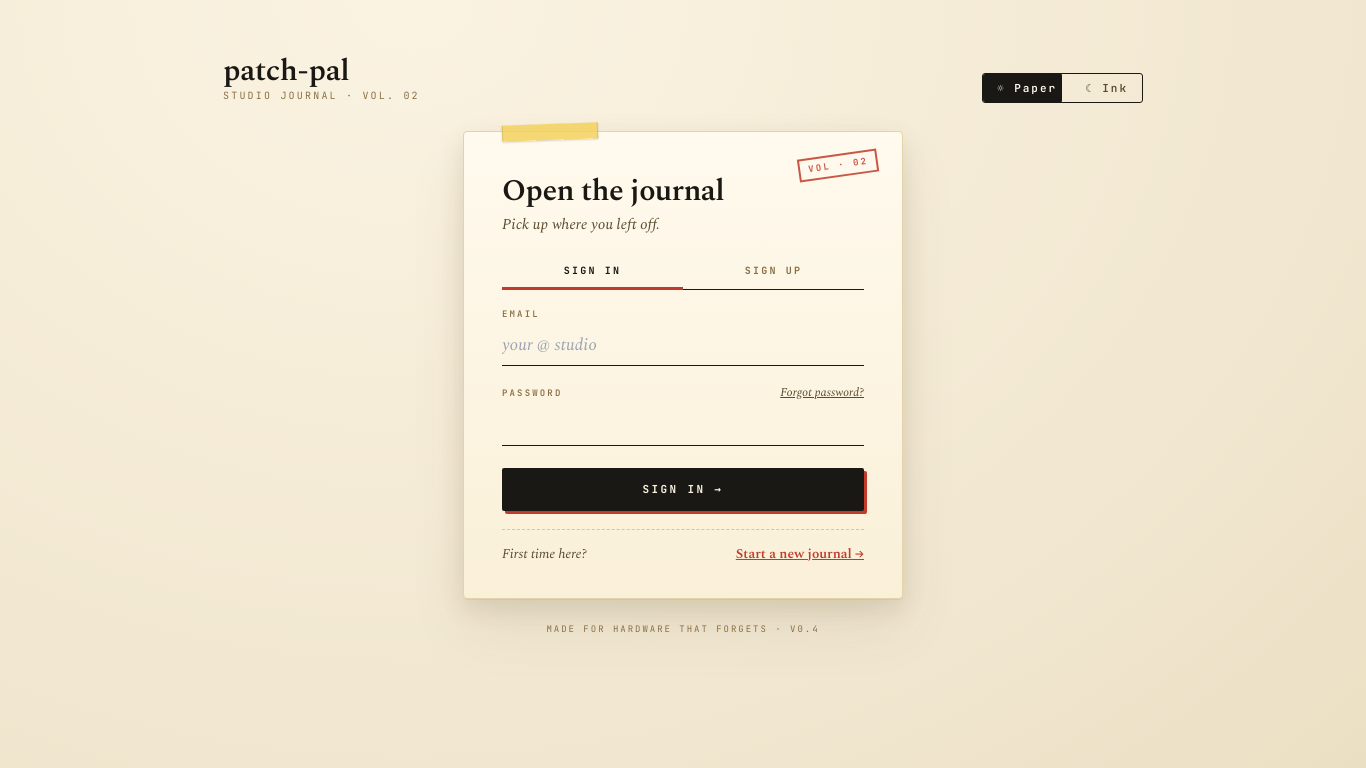
Auth page › successful sign-up shows email confirmation message
The image size is (1366, 768).
Click the tab "Sign up" at (774, 272), box [683, 254, 864, 290]
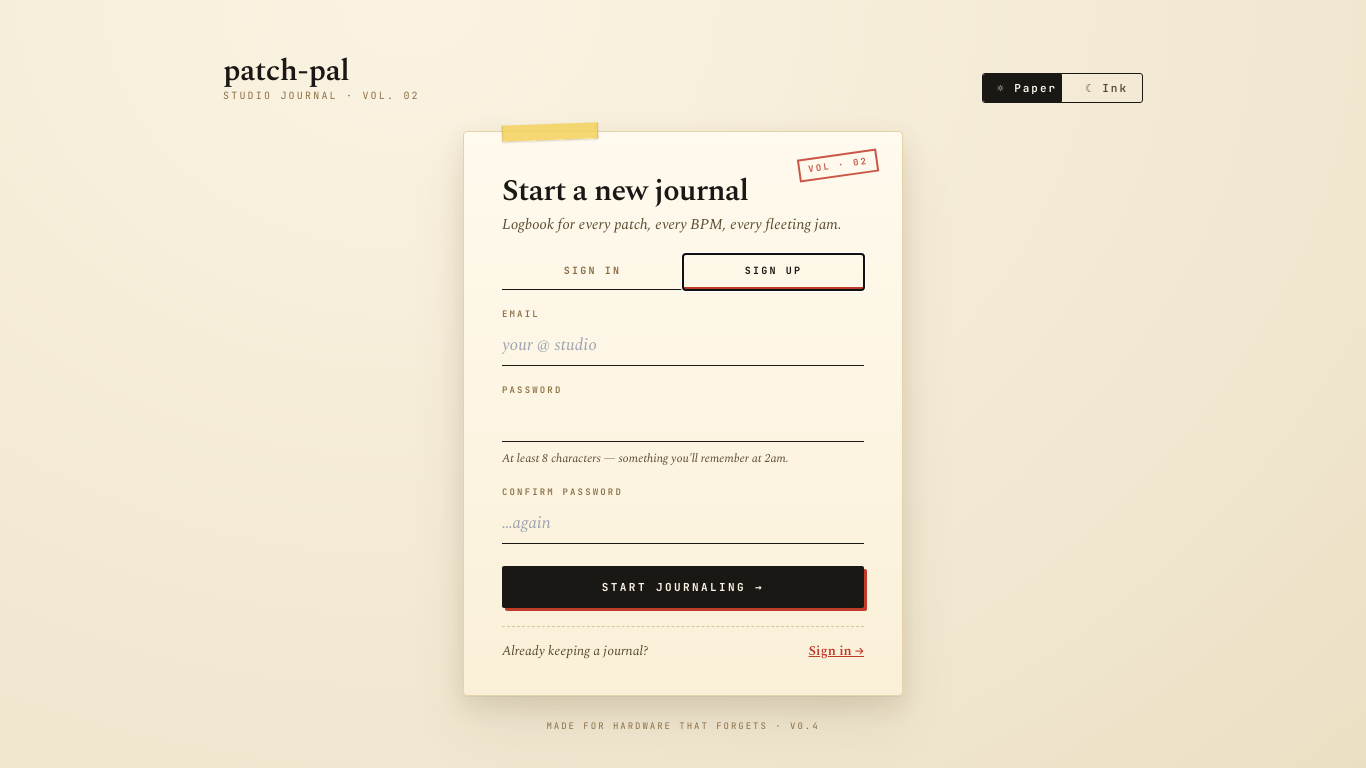
Type "new@example.com" into the field labelled "Email" at (683, 345), box [502, 325, 864, 366]
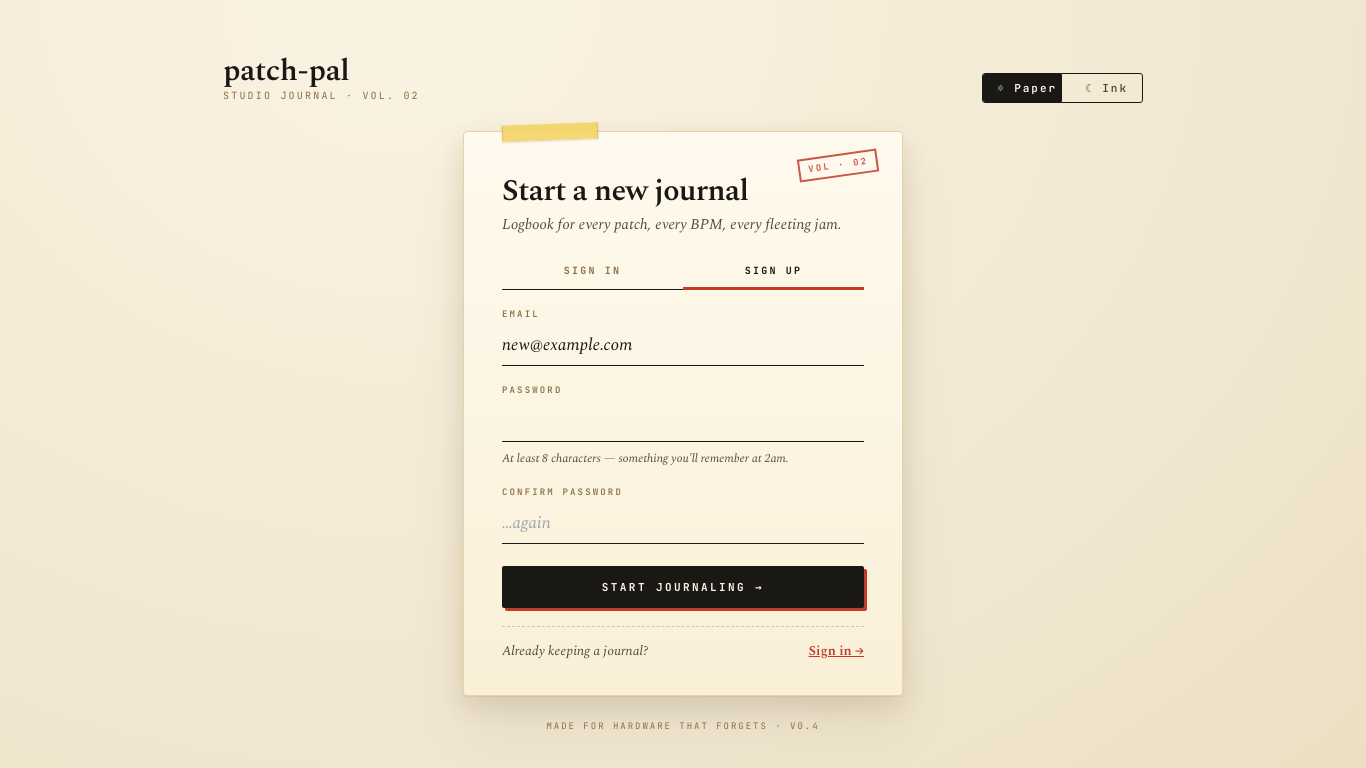
Type "securepass" into the password field labelled "Password" at (683, 421), box [502, 401, 864, 442]
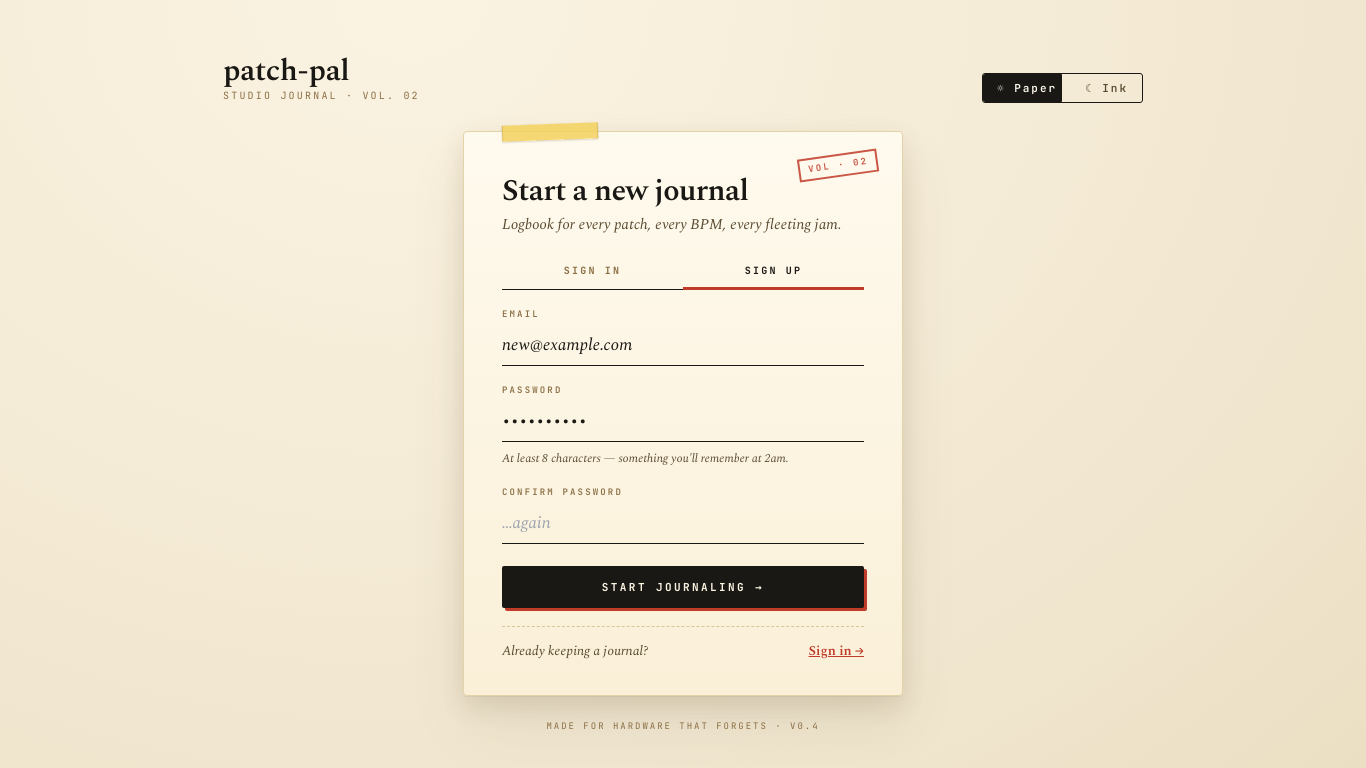
Type "securepass" into the password field labelled "Confirm password" at (683, 523), box [502, 503, 864, 544]
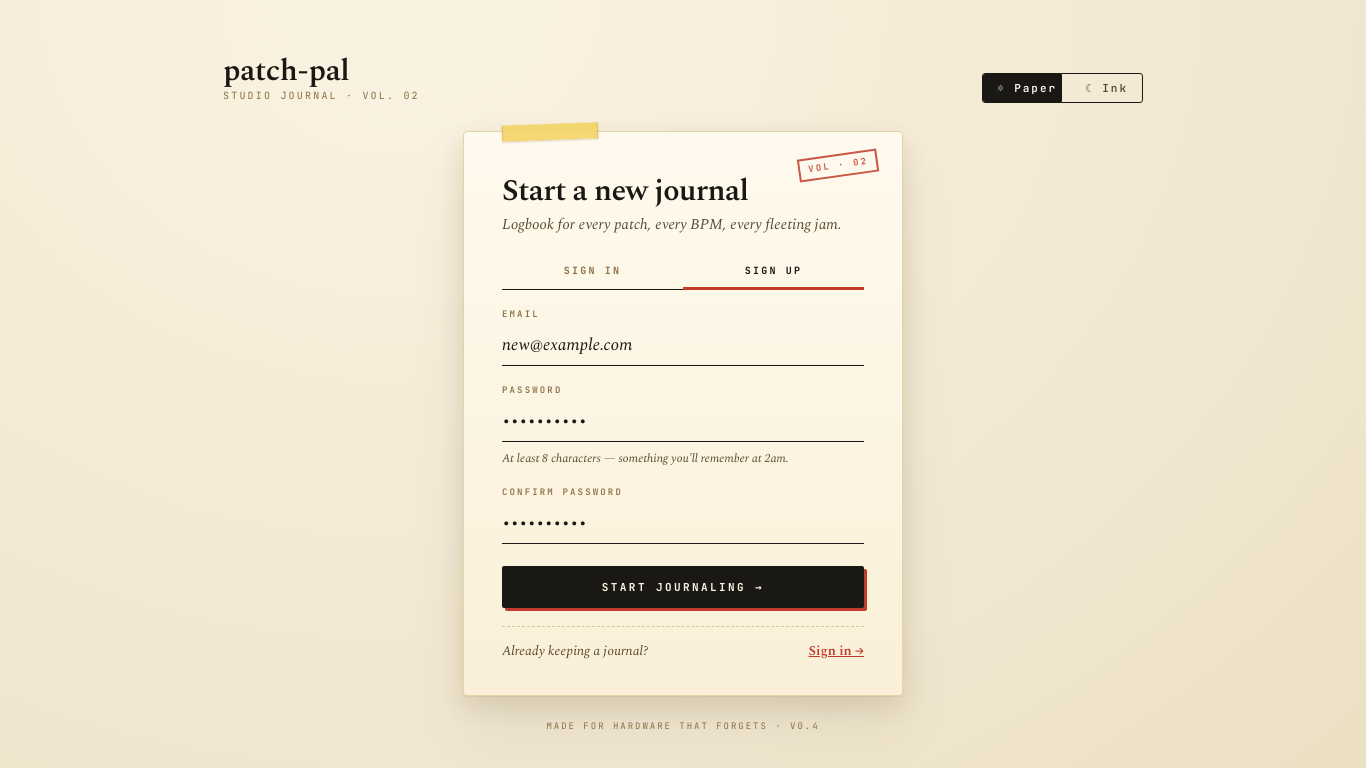
Click the button "Start journaling →" at (683, 587), box [502, 566, 864, 608]
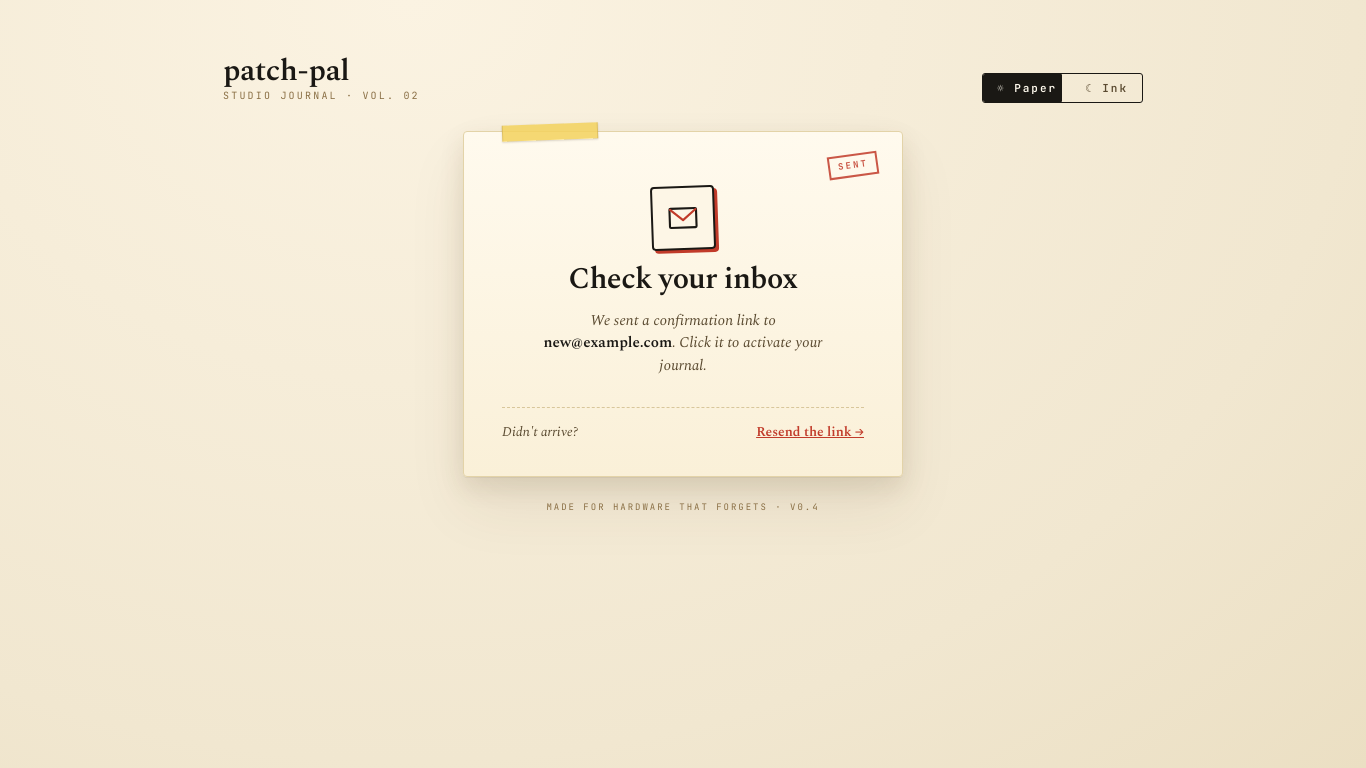
Expected: the heading "Check your inbox" is shown, [568, 264, 798, 296]
Expected: the text "confirmation link" is shown, [590, 308, 776, 332]
